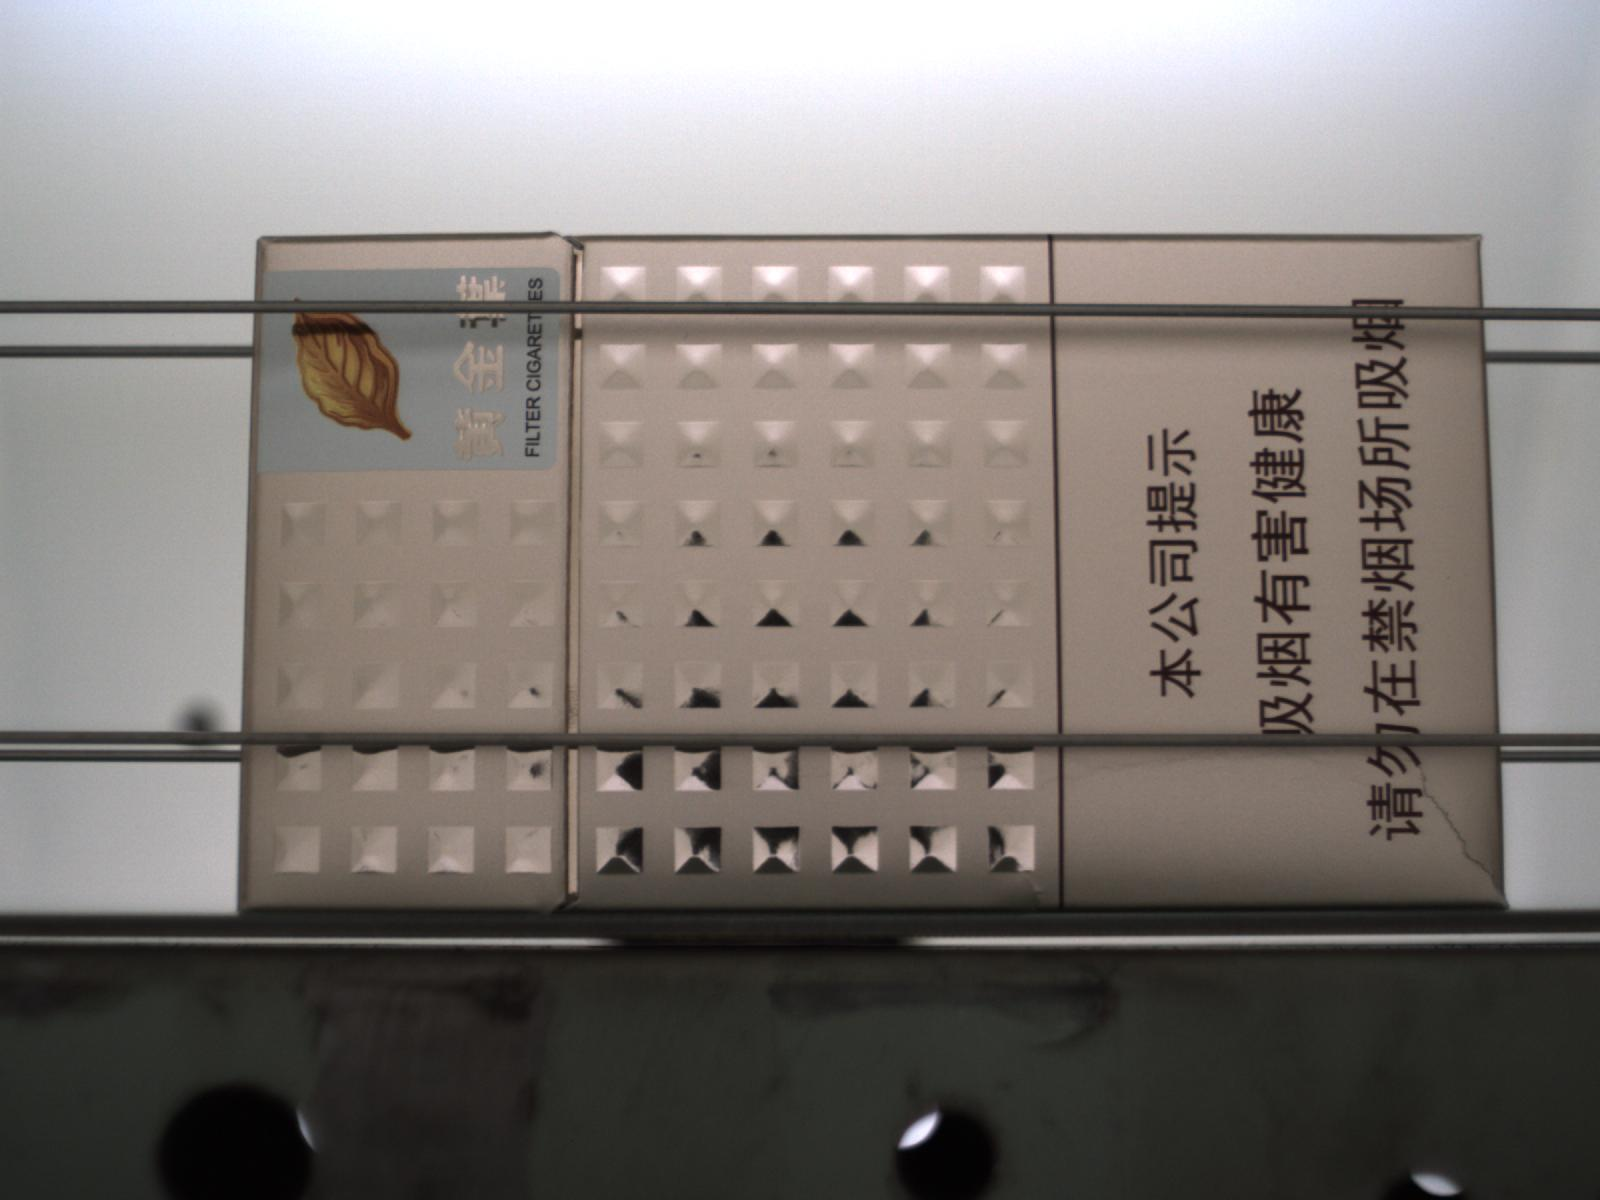dirtySpot: (1443, 571, 1455, 584)
skewed_upper_0: (1429, 800, 1511, 909)
